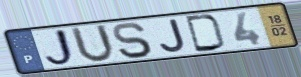4: (233, 10, 264, 47)
D: (183, 13, 228, 54)
J: (43, 28, 80, 68), (158, 17, 188, 54)
S: (111, 21, 155, 60)
U: (68, 23, 117, 65)
